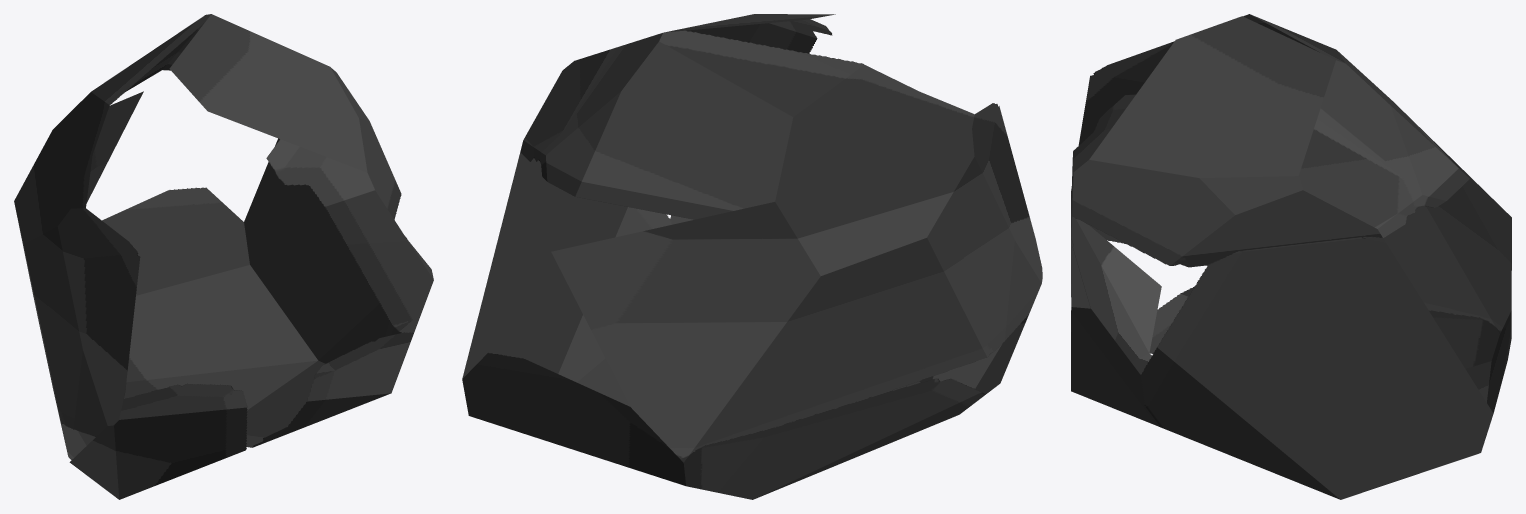
The model's file is kamen3.fbx.
The picture shows the model from 3 angles, left to right: view 1: azimuth 30°, elevation 25°; view 2: azimuth 150°, elevation 25°; view 3: azimuth 270°, elevation 25°; orthographic projection. The views are drawn at different scales.
Visible parts, largest first — view 1: Cube.002; view 2: Cube.002; view 3: Cube.002.
Part boxes in pixels (x1=…): Cube.002: x1=14, y1=14, x2=433, y2=499; Cube.002: x1=462, y1=14, x2=1042, y2=499; Cube.002: x1=1071, y1=14, x2=1511, y2=499.
Size of the model in its own units: 48.69 by 51.93 by 53.84.
1 material, 1 textured.
